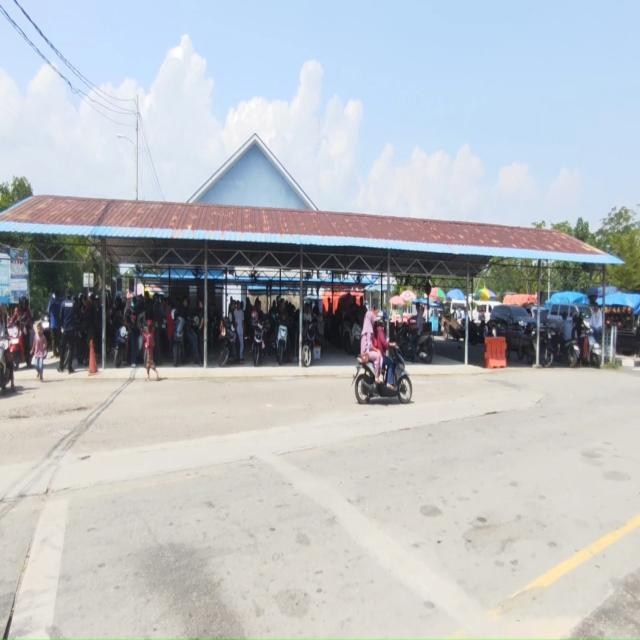Golongan II: (352, 349, 412, 404), (302, 318, 359, 368), (395, 323, 434, 364), (517, 325, 554, 368), (549, 328, 580, 367), (7, 321, 32, 369), (219, 318, 238, 367), (251, 319, 268, 366), (172, 313, 186, 367), (114, 321, 130, 368), (40, 312, 56, 356), (586, 328, 602, 368), (0, 336, 11, 392), (276, 324, 288, 365), (347, 322, 362, 354), (339, 317, 352, 353)
